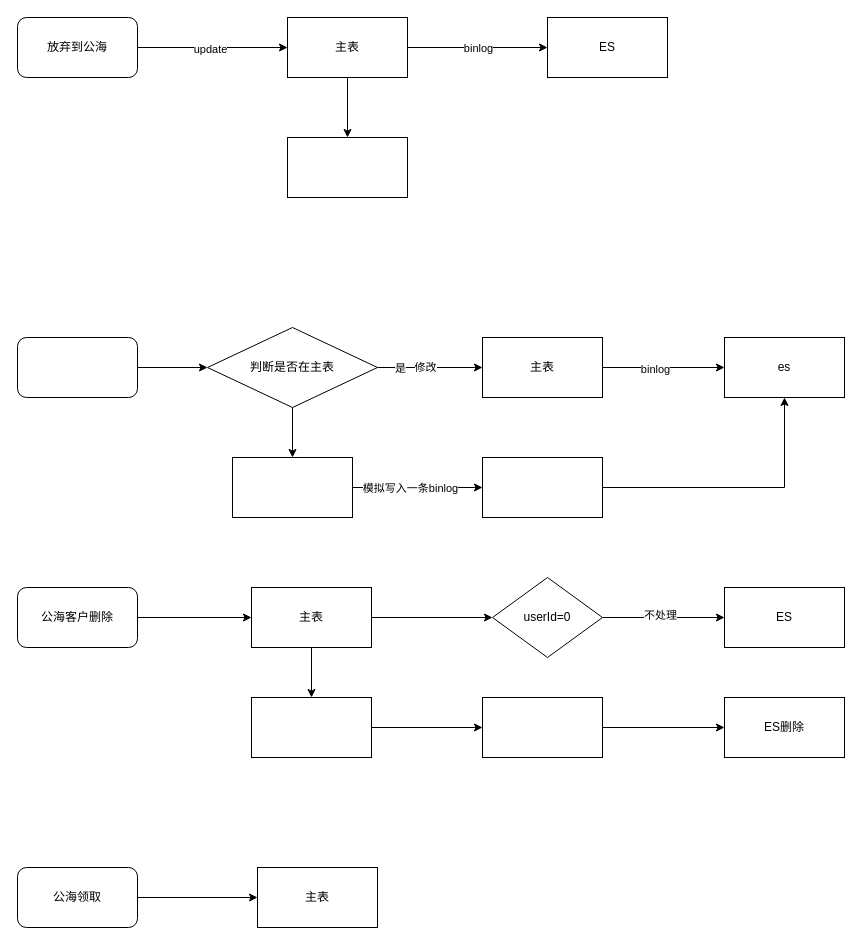
The diagram is 862 pixels wide and 945 high, and some of its shapes have lost their labels. Here are the shapes that lost their labels. From the top down, the box of each, then its label:
(286, 136, 408, 198): 写入次表索引
(16, 336, 138, 398): 修改公海客户资料
(232, 456, 352, 518): 修改MongoDB
(482, 456, 602, 518): kafka
(250, 696, 372, 758): 次表索引删除
(482, 696, 602, 758): binlog订阅新表
